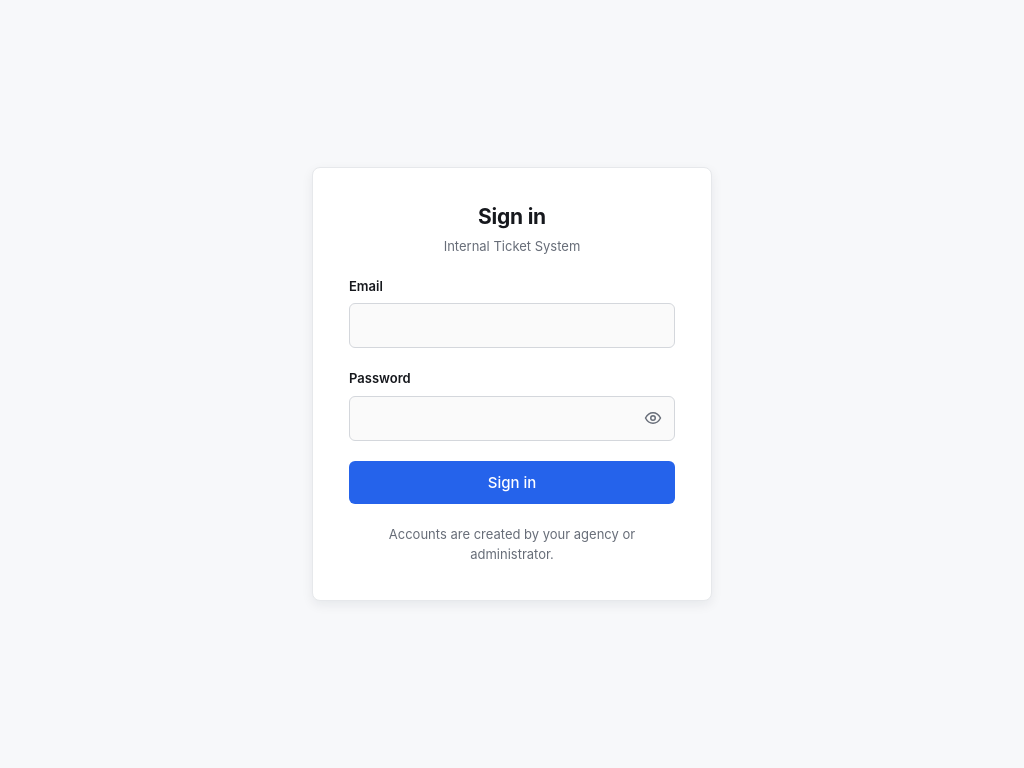
Test case: where signing in lands › goes to the ticket list, not back to the deep link it bounced off
The image size is (1024, 768).
Check: the heading "Sign in" is shown, box [478,204,546,229]
Type "admin1@email.com" into the field labelled "Email" at (512, 326), box [349,303,675,348]
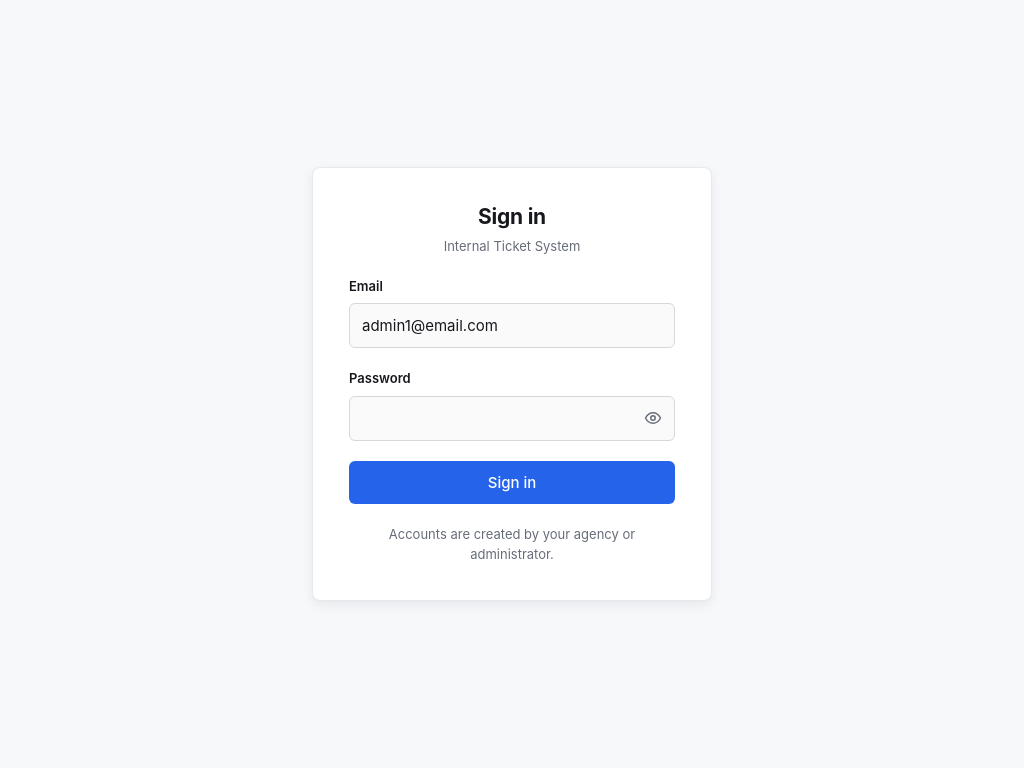
Type "admin1Password?" into the password field labelled "Password" at (512, 418), box [349,396,675,441]
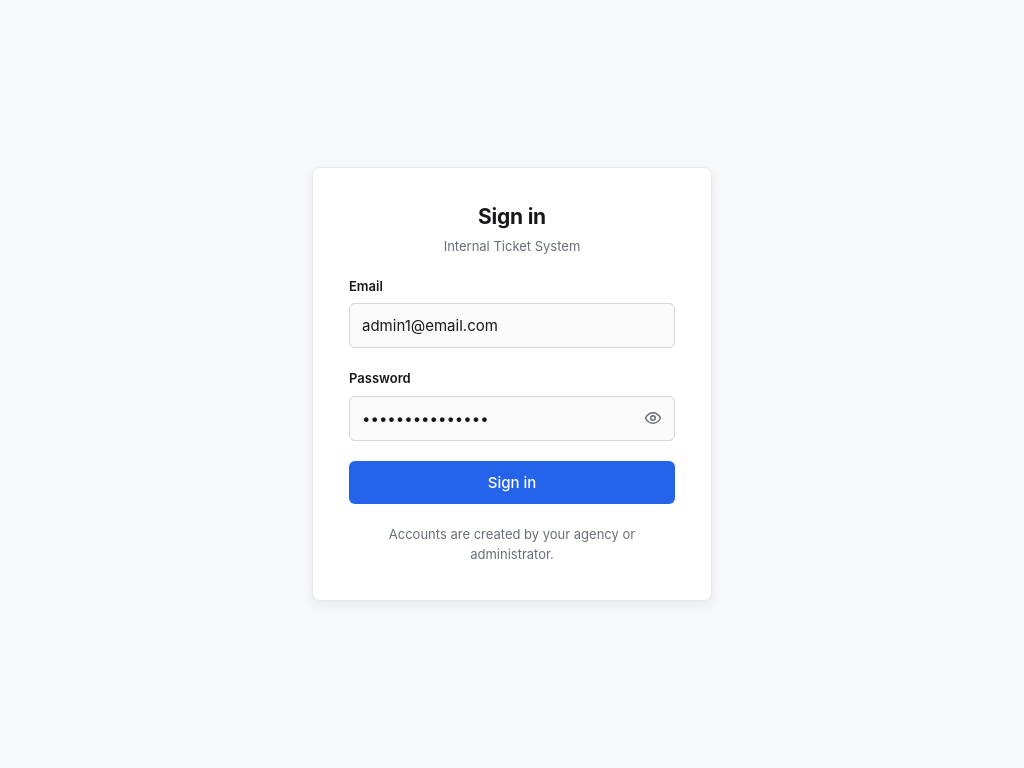
Click the button "Sign in" at (512, 482), box [349,461,675,504]
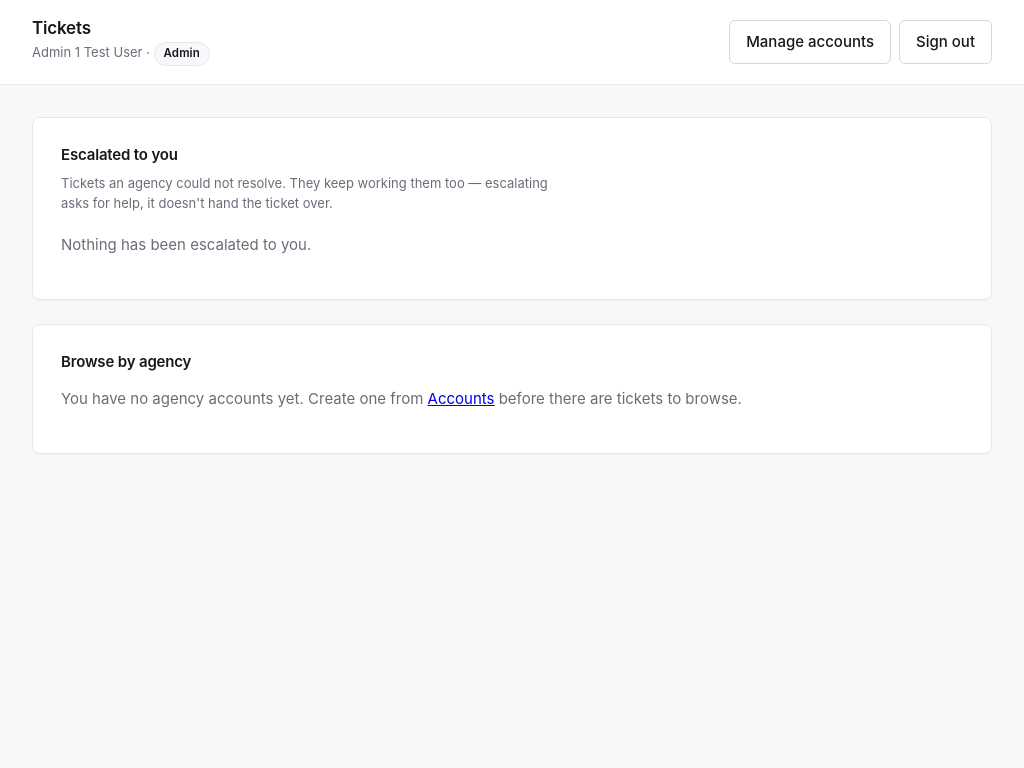
Check: the heading "Tickets" is shown, box [32,18,91,38]
